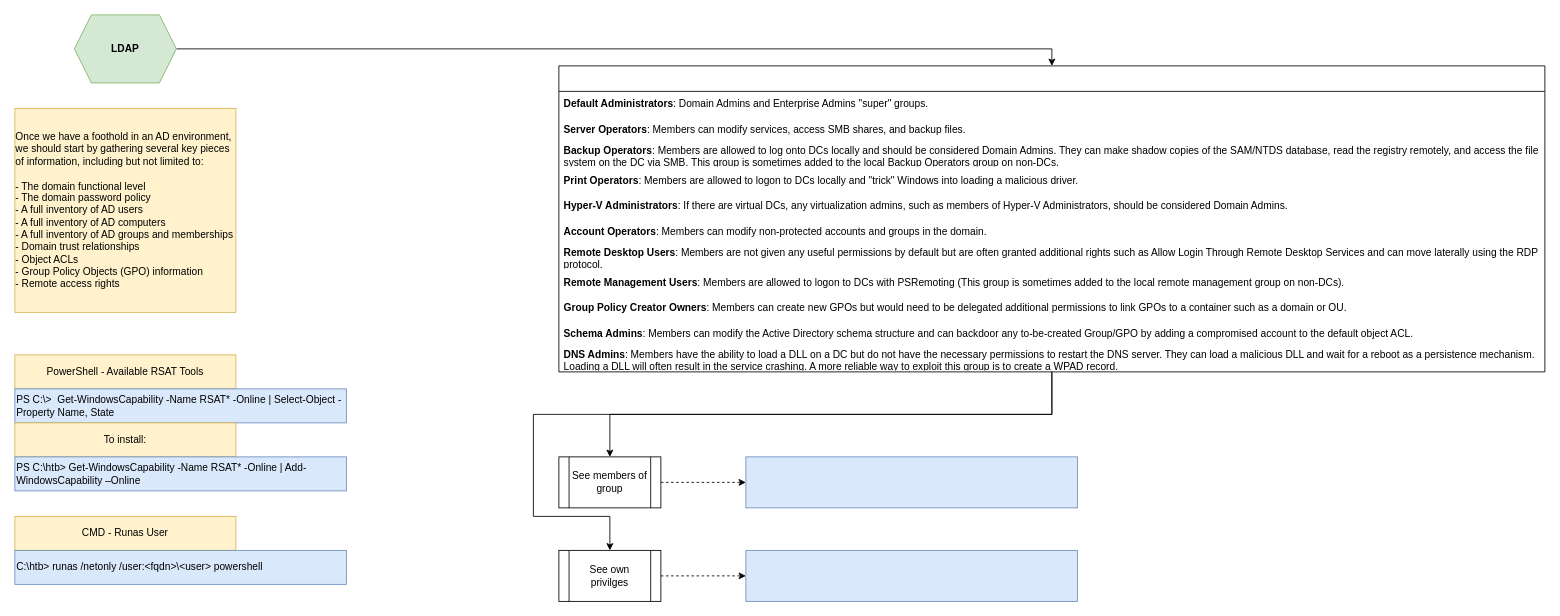
The diagram is 1560 pixels wide and 616 high, and some of its shapes have lost their labels. The shapes that lost their labels are listed below. From the top down, each one's box as (x1, y1, x2, y2) in pixels, then its label:
(558, 65, 1545, 372): Rights and Privileges in AD
(745, 456, 1077, 508): PS C:\> Get-ADGroup -Identity <group> -Properties *
(745, 550, 1077, 601): PS C:\> whoami /priv
